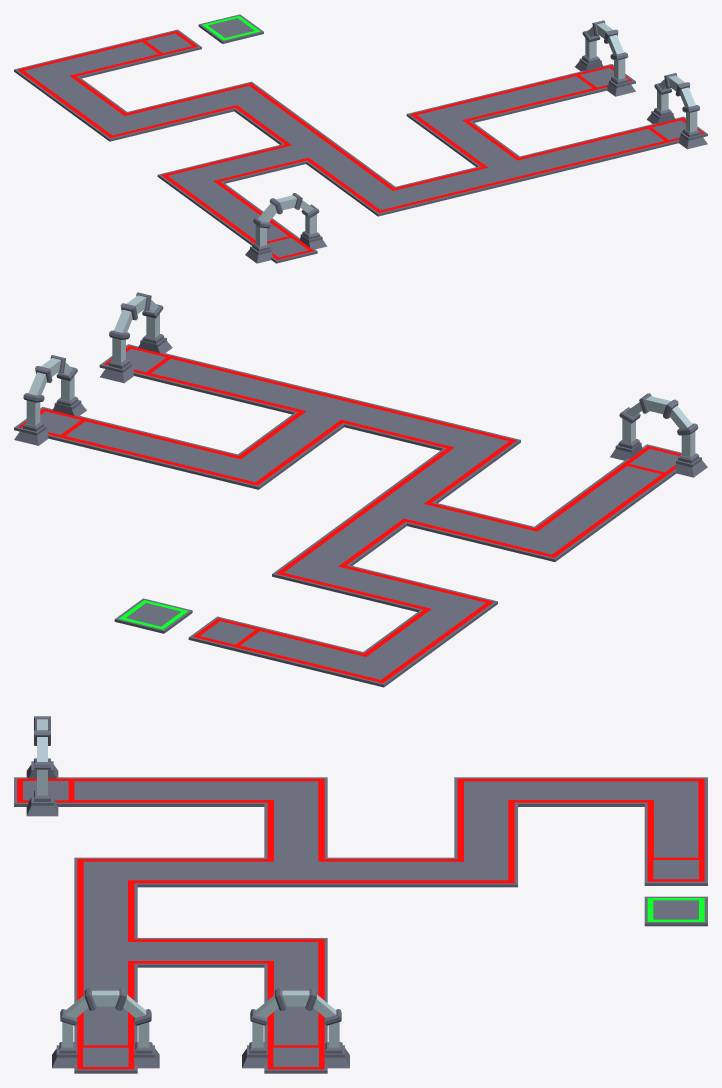
Rendered from Map_Small_pathing.glb.
3 renders of one model, top to bottom at view 1: azimuth 30°, elevation 25°; view 2: azimuth 150°, elevation 25°; view 3: azimuth 270°, elevation 25°, orthographic. The views are drawn at different scales.
Visible parts, largest first — view 1: spawn.001, spawn.002, spawn, SpawnPoint.003, LanePathStraight.028, LanePathStraight.021, LanePathStraight.020, LanePathStraight.015, LanePathStraight.035, LanePathStraight, LanePathStraight.008, LanePathStraight.018 (+29 smaller); view 2: spawn.001, spawn.002, spawn, LanePathStraight.013, LanePathStraight.019, SpawnPoint.003, LanePathStraight.030, LanePathStraight.012, LanePathStraight.018, LanePathStraight.033, LanePathStraight.035, LanePathStraight.005 (+29 smaller); view 3: spawn, spawn.002, spawn.001, LanePathStraight.002, LanePathStraight.033, SpawnPoint.003, LanePathStraight.004, LanePathStraight.003, LanePathStraight.023, LanePathStraight.022, LanePathStraight.017, LanePathStraight.024 (+29 smaller).
Part boxes in pixels (<box>): spawn.001: <box>245,193,327,263</box>; spawn.002: <box>575,20,635,96</box>; spawn: <box>647,73,707,149</box>; SpawnPoint.003: <box>198,14,263,43</box>; LanePathStraight.028: <box>354,187,419,216</box>; LanePathStraight.021: <box>86,112,151,141</box>; LanePathStraight.020: <box>169,91,234,121</box>; LanePathStraight.015: <box>603,126,668,155</box>; LanePathStraight.035: <box>97,39,162,68</box>; LanePathStraight: <box>437,166,502,196</box>; LanePathStraight.008: <box>562,136,626,165</box>; LanePathStraight.018: <box>531,73,596,103</box>; spawn.001: <box>610,393,707,477</box>; spawn.002: <box>14,355,86,445</box>; spawn: <box>100,292,172,383</box>; LanePathStraight.013: <box>209,454,287,489</box>; LanePathStraight.019: <box>334,652,412,687</box>; SpawnPoint.003: <box>114,598,192,633</box>; LanePathStraight.030: <box>505,526,583,561</box>; LanePathStraight.012: <box>456,514,533,549</box>; LanePathStraight.018: <box>61,418,138,453</box>; LanePathStraight.033: <box>272,553,349,588</box>; LanePathStraight.035: <box>235,628,312,663</box>; LanePathStraight.005: <box>160,442,237,477</box>; spawn: <box>52,988,159,1068</box>; spawn.002: <box>242,988,349,1068</box>; spawn.001: <box>26,716,58,816</box>; LanePathStraight.002: <box>264,857,327,887</box>; LanePathStraight.033: <box>454,857,517,887</box>; SpawnPoint.003: <box>644,896,707,926</box>; LanePathStraight.004: <box>391,857,454,887</box>; LanePathStraight.003: <box>327,857,390,887</box>; LanePathStraight.023: <box>201,857,264,887</box>; LanePathStraight.022: <box>137,857,200,887</box>; LanePathStraight.017: <box>201,938,264,967</box>; LanePathStraight.024: <box>137,777,200,806</box>.
Size of the model in its own units: 22.6 by 2.43 by 21.9.
